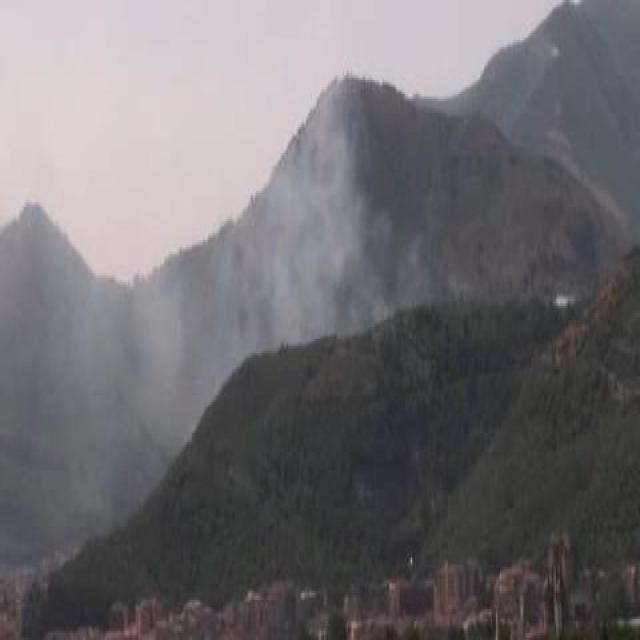Smoke: (13, 290, 203, 446), (237, 160, 359, 353)
